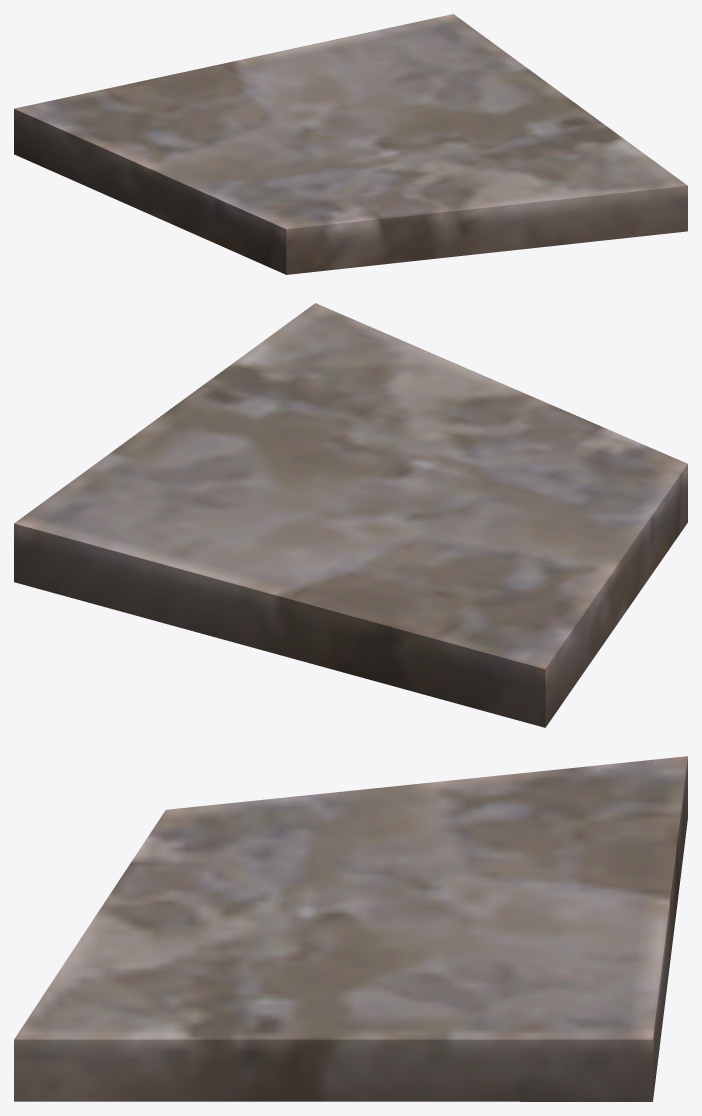
The model's file is FB_CunLuo_shiotu05.FBX.
3 views of the same model, one above another, from view 1: azimuth 30°, elevation 25°; view 2: azimuth 150°, elevation 25°; view 3: azimuth 270°, elevation 25° (orthographic). The views are drawn at different scales.
Visible parts, largest first — view 1: Object75; view 2: Object75; view 3: Object75.
Part boxes in pixels (x1,y1,x2,y2): Object75: (14, 14, 687, 274); Object75: (14, 303, 687, 727); Object75: (14, 756, 687, 1101).
Size of the model in its own units: 1.71 by 0.1744 by 1.71.
